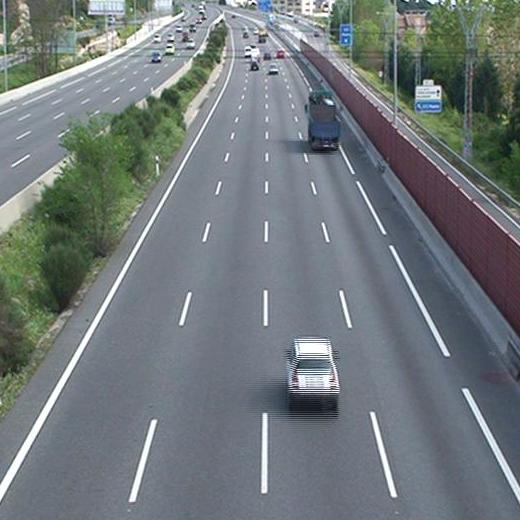car: (284, 337, 341, 404), (266, 63, 280, 75)
small-truck: (304, 90, 343, 150)
